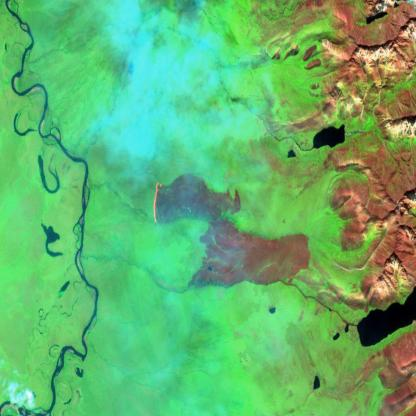fire: (146, 171, 164, 228)
